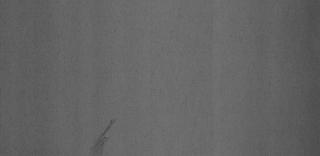water spot: (86, 115, 124, 156)
